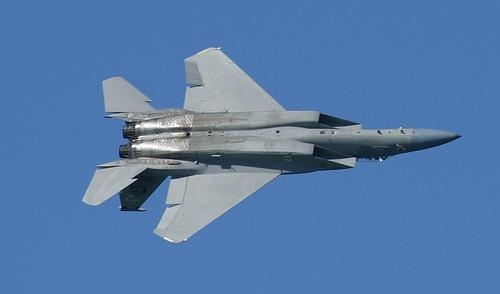aeroplane: (83, 48, 462, 244)
